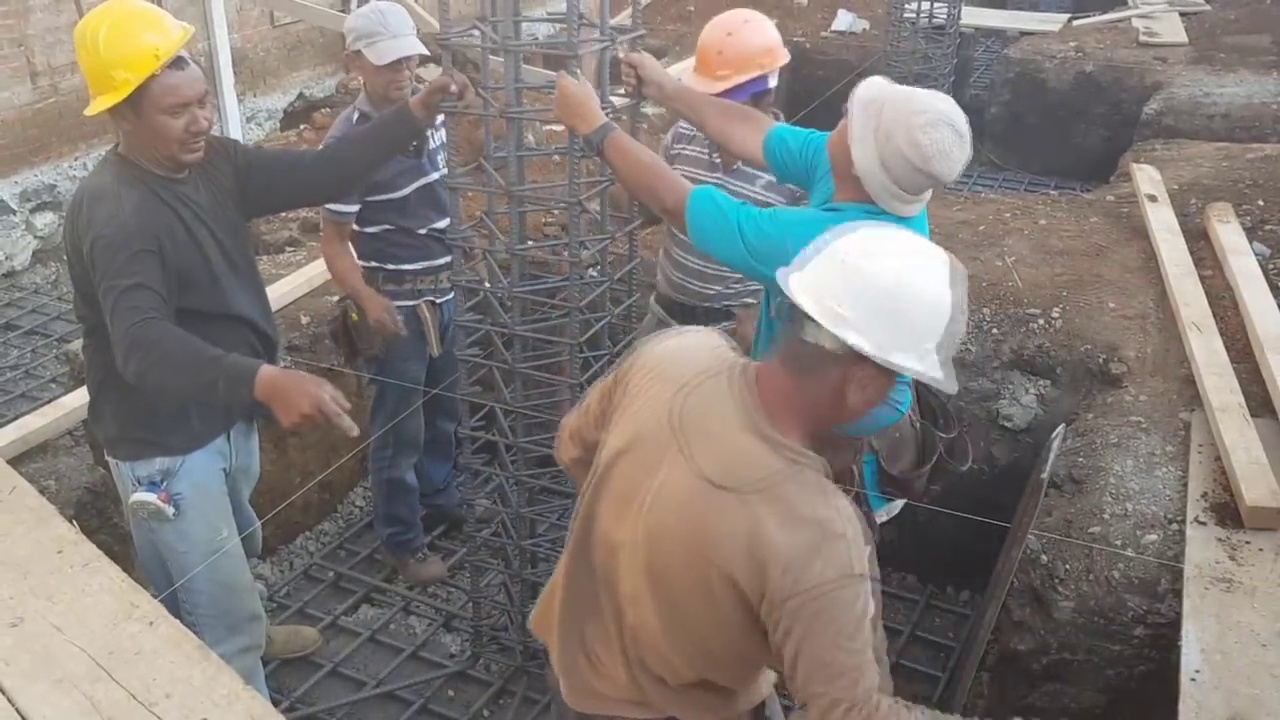helmet: (770, 230, 968, 394), (80, 3, 209, 111), (691, 8, 795, 90)
helmet-off: (837, 79, 987, 213), (338, 0, 438, 114)
helmet-on: (732, 226, 964, 466), (62, 0, 217, 188), (666, 8, 793, 134)
person: (56, 0, 472, 720), (526, 220, 966, 720), (555, 53, 985, 515), (313, 10, 501, 582), (637, 3, 795, 359)
